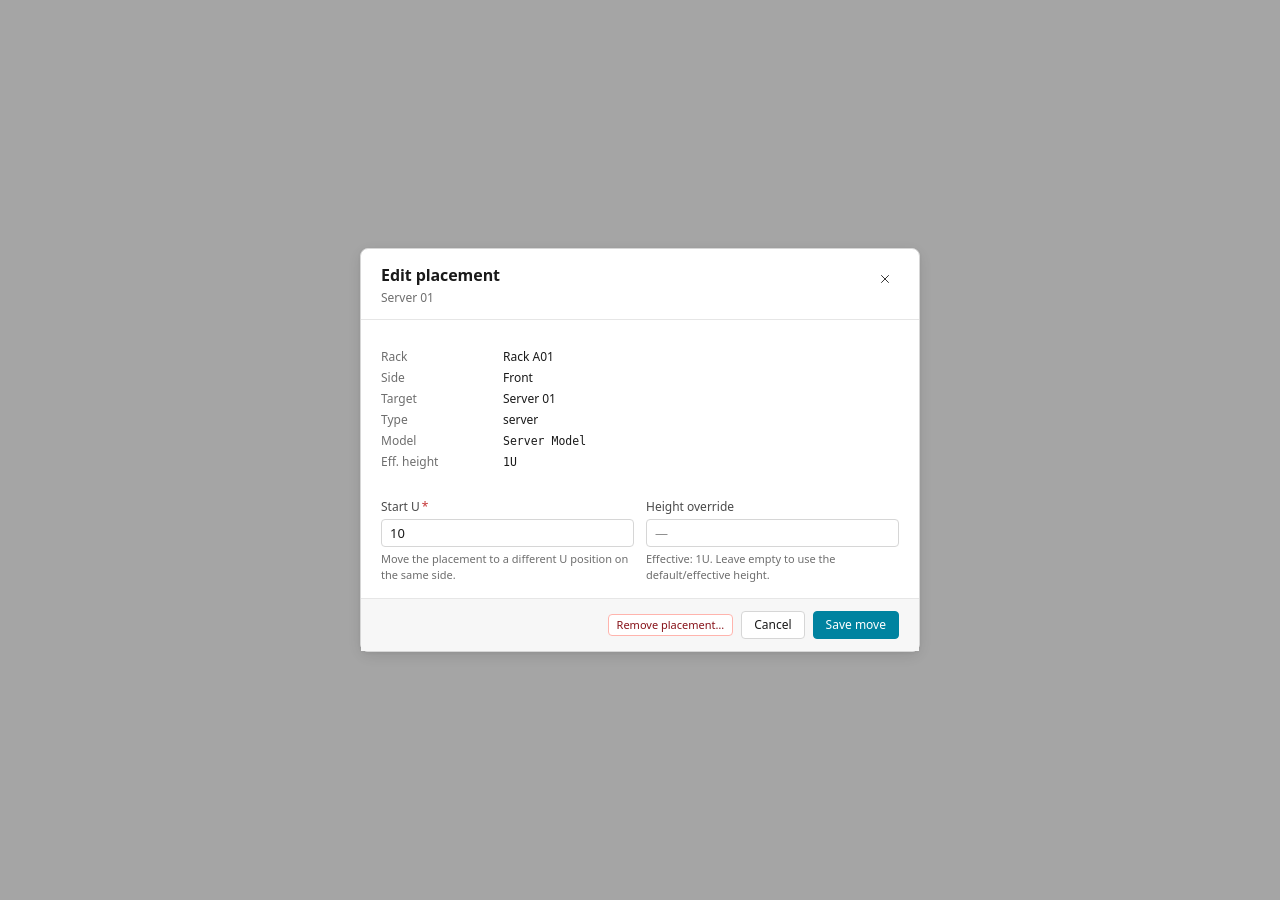
EditPlacementModal — open › Remove button opens ConfirmDialog
The image size is (1280, 900).
Click the button with test id "remove-btn". click: (670, 625)
box: [608,614,733,636]
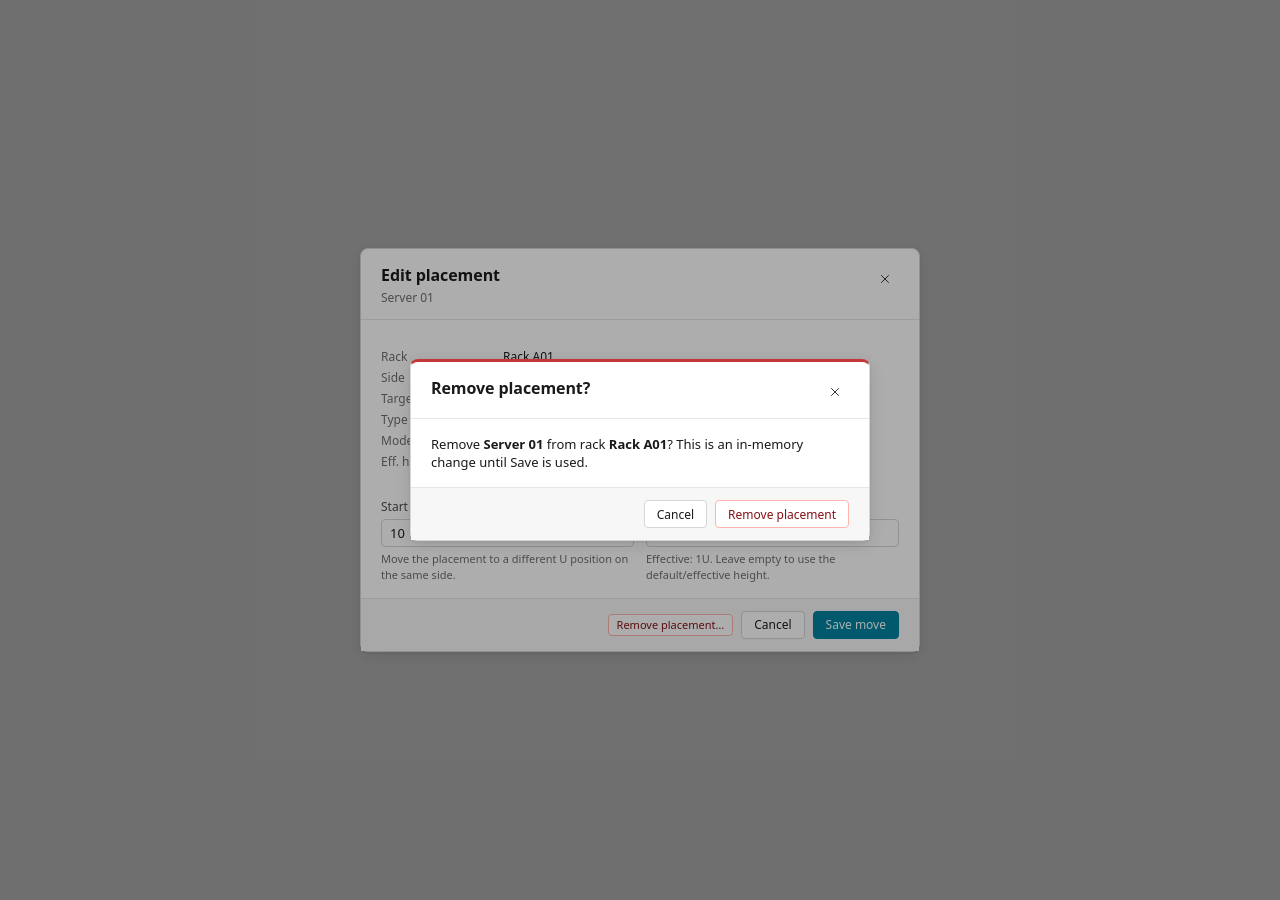
expect the dialog "Remove placement?" is shown: met, box [410,359,870,541]
